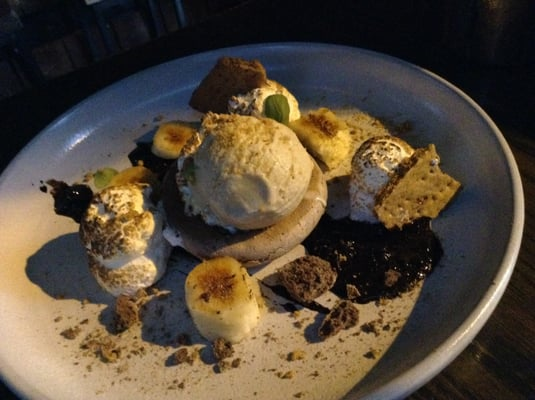sushi: (14, 40, 527, 396)
